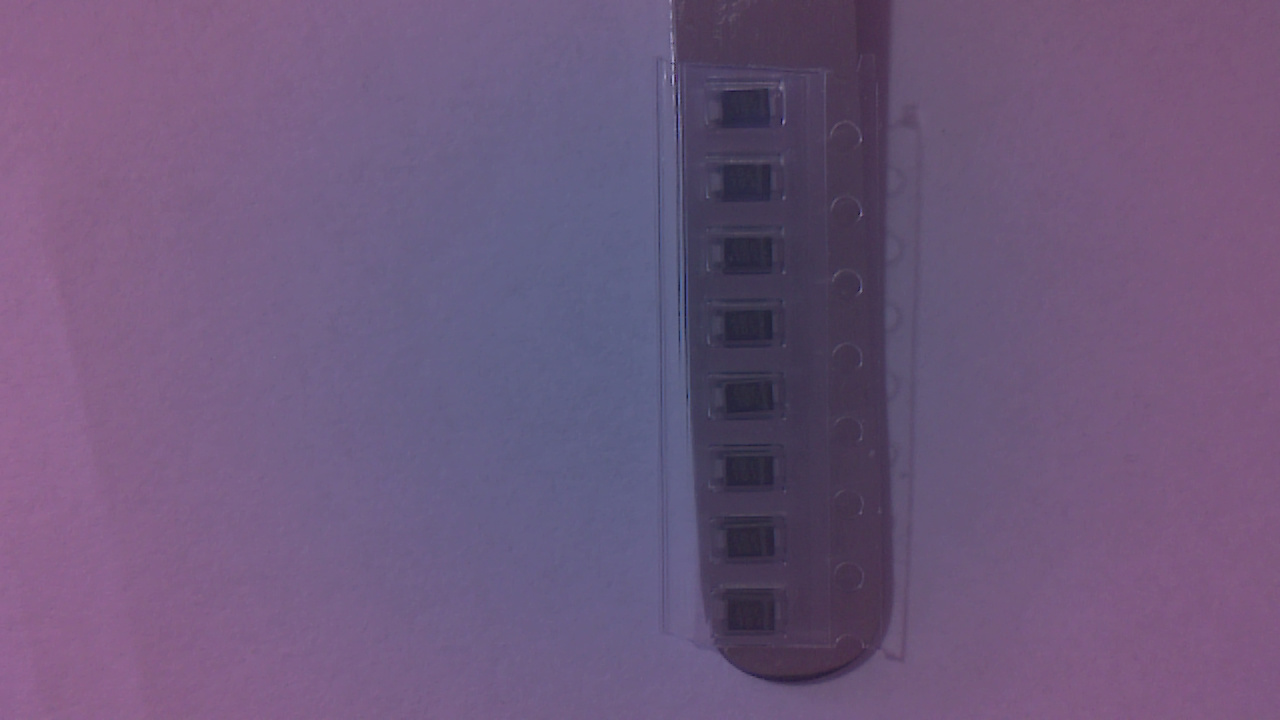Diode: (717, 237, 789, 283), (708, 92, 786, 134), (718, 595, 789, 638), (716, 522, 787, 564), (717, 308, 785, 349), (717, 383, 786, 421), (719, 457, 789, 494), (715, 167, 788, 202)
